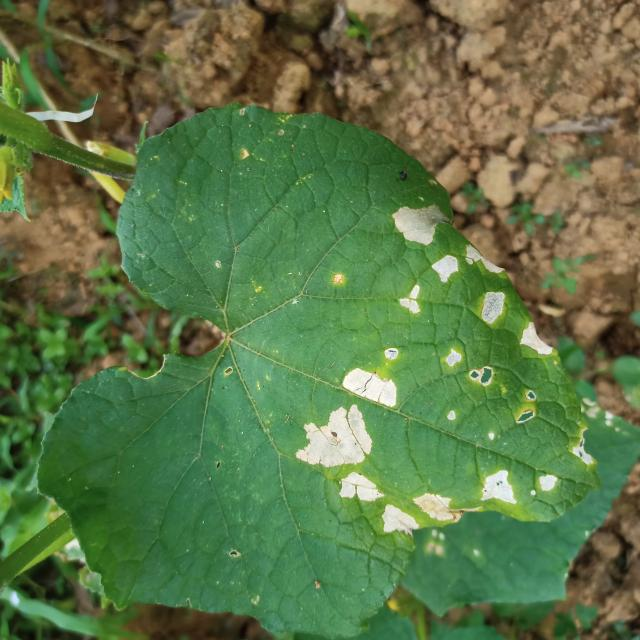disease_cucumber: (297, 369, 397, 465), (394, 201, 460, 315), (463, 243, 506, 326), (379, 493, 452, 534), (479, 469, 560, 503), (442, 349, 496, 388), (520, 319, 556, 363), (339, 471, 383, 505)
